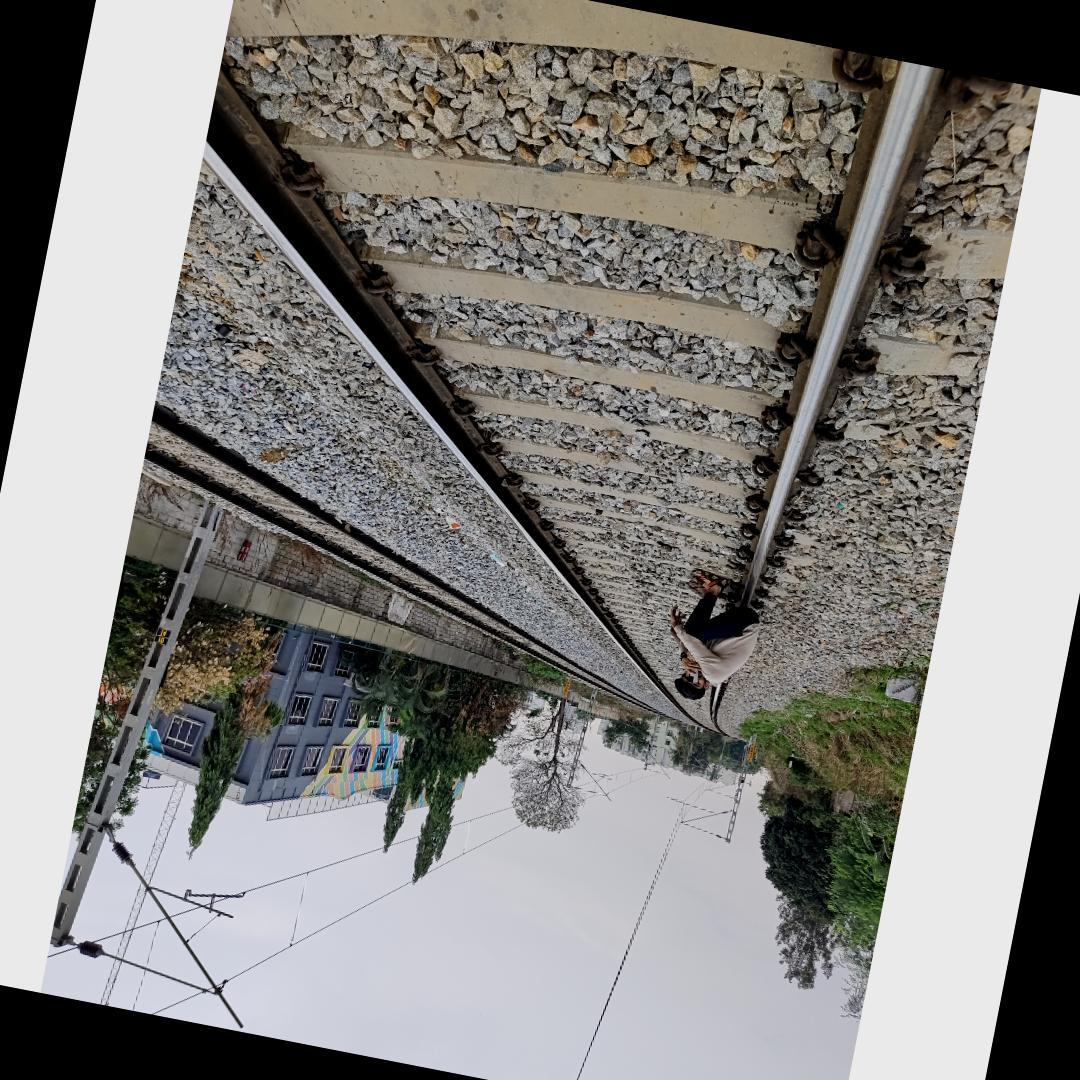sitting: (652, 564, 769, 711)
track: (198, 0, 1041, 745)
